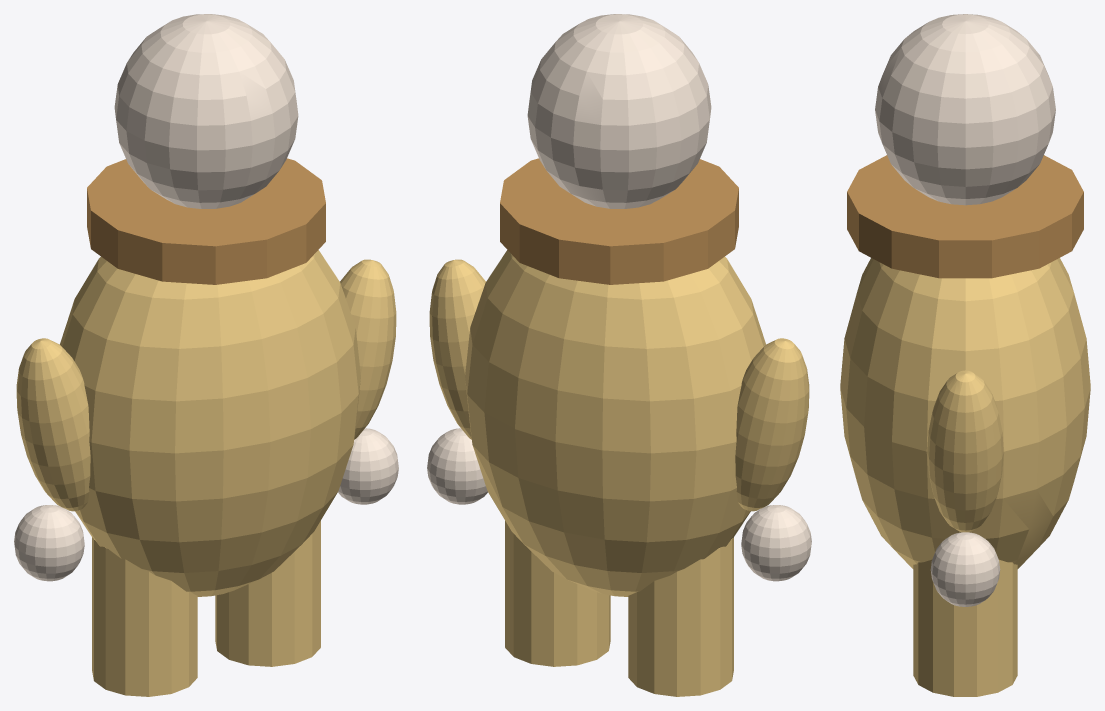
Rendered from preset-01.glb.
3 views of the same model, side by side, from view 1: azimuth 30°, elevation 25°; view 2: azimuth 150°, elevation 25°; view 3: azimuth 270°, elevation 25° (orthographic). The views are drawn at different scales.
Parts seen in each view (by area): view 1: preset-01; view 2: preset-01; view 3: preset-01.
Part boxes in pixels (<box>): preset-01: <box>14,14,398,696</box>; preset-01: <box>427,14,811,696</box>; preset-01: <box>840,14,1090,696</box>.
Size of the model in its own units: 0.2157 by 0.35 by 0.1273.
